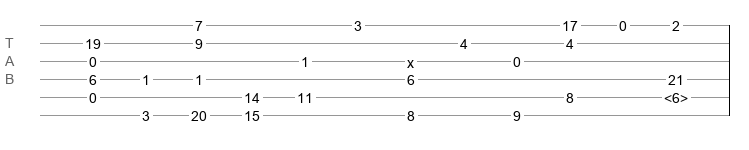0: (89, 90, 97, 100), (89, 54, 97, 64), (513, 54, 521, 64), (619, 18, 627, 28)
1: (142, 72, 150, 82), (195, 72, 203, 82), (301, 54, 309, 64)
11: (297, 90, 313, 100)
14: (244, 90, 260, 100)
15: (244, 108, 260, 118)
17: (562, 18, 578, 28)
19: (85, 36, 101, 46)
2: (672, 18, 680, 28)
20: (191, 108, 207, 118)
21: (668, 72, 684, 82)
3: (142, 108, 150, 118), (354, 18, 362, 28)
4: (460, 36, 468, 46), (566, 36, 574, 46)
6: (89, 72, 97, 82), (407, 72, 415, 82)
7: (195, 18, 203, 28)
8: (407, 108, 415, 118), (566, 90, 574, 100)
9: (195, 36, 203, 46), (513, 108, 521, 118)
harmonic: (664, 90, 688, 100)
x: (407, 55, 414, 63)
